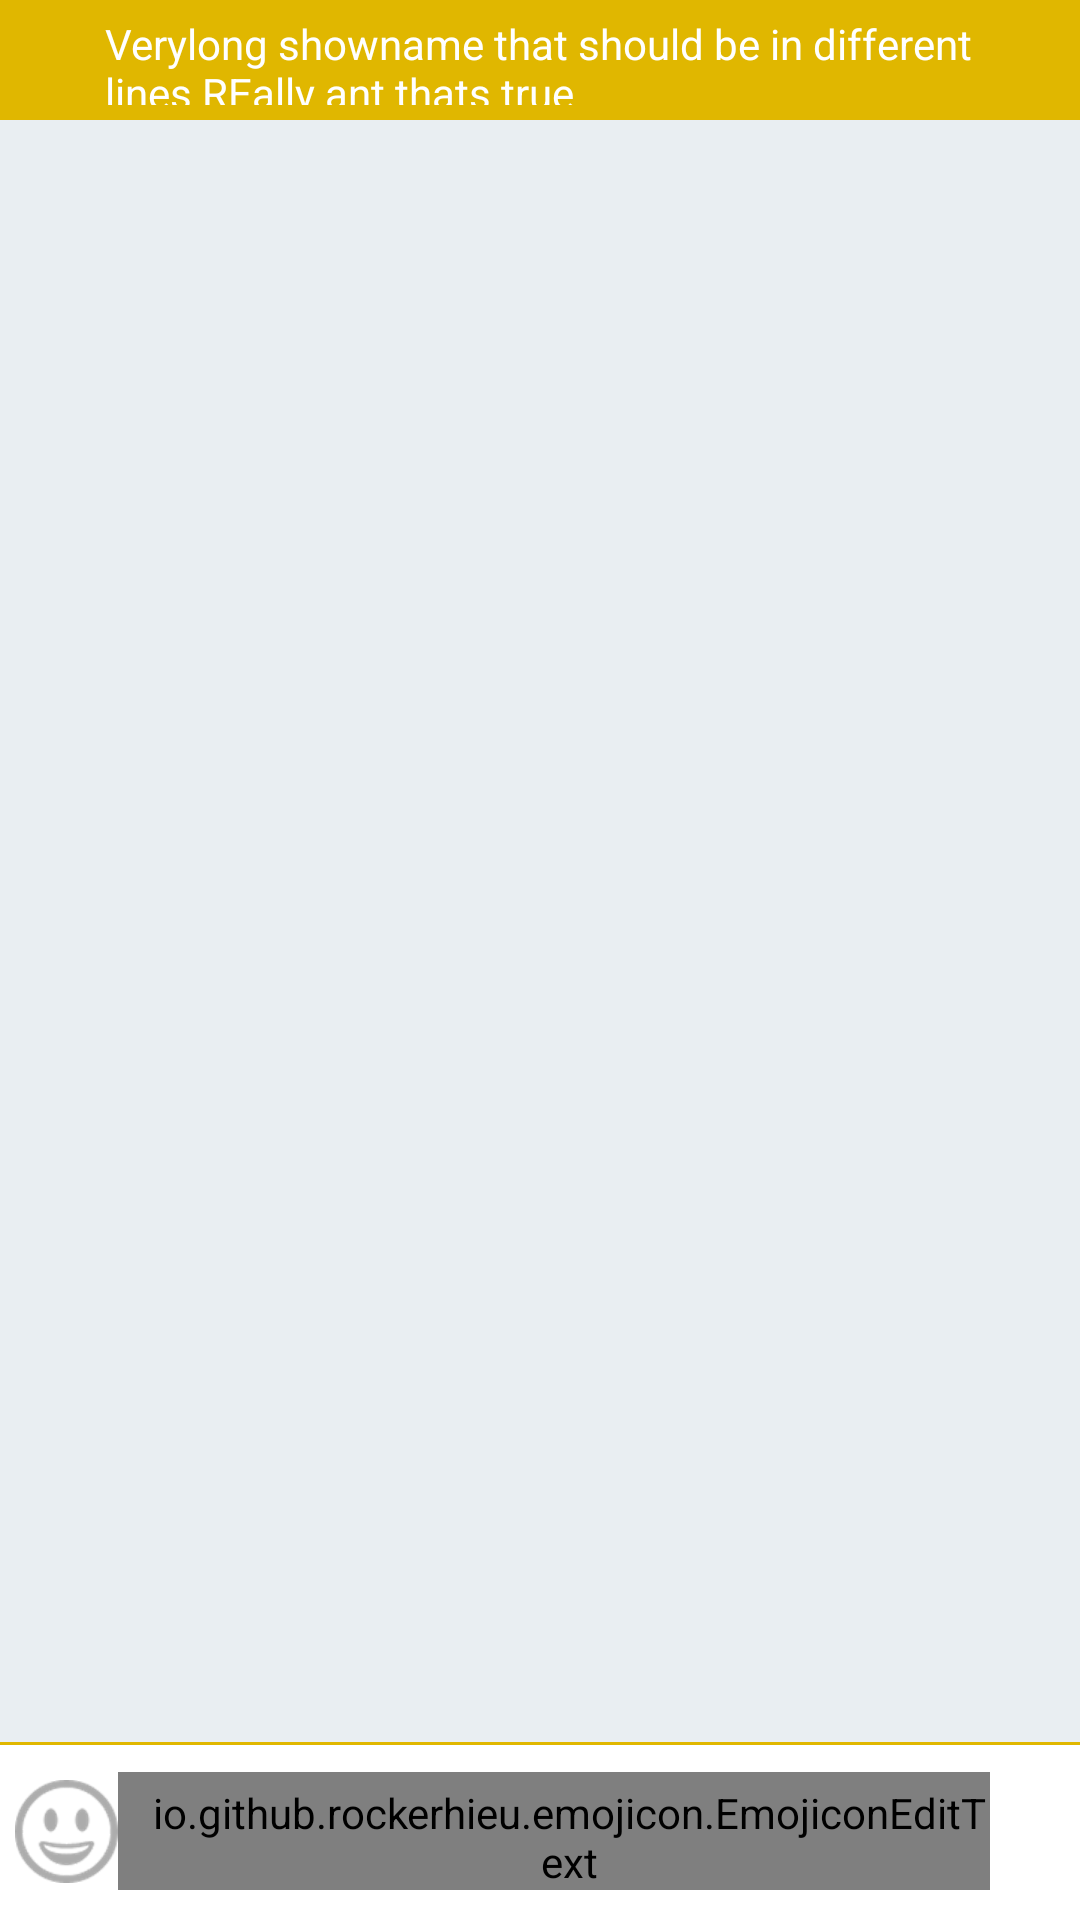

Screen size 1080 × 1920. Icon name, then its box in pixels as (x1, y1, x2, y2):
emoji smile: (15, 1780, 118, 1883)
